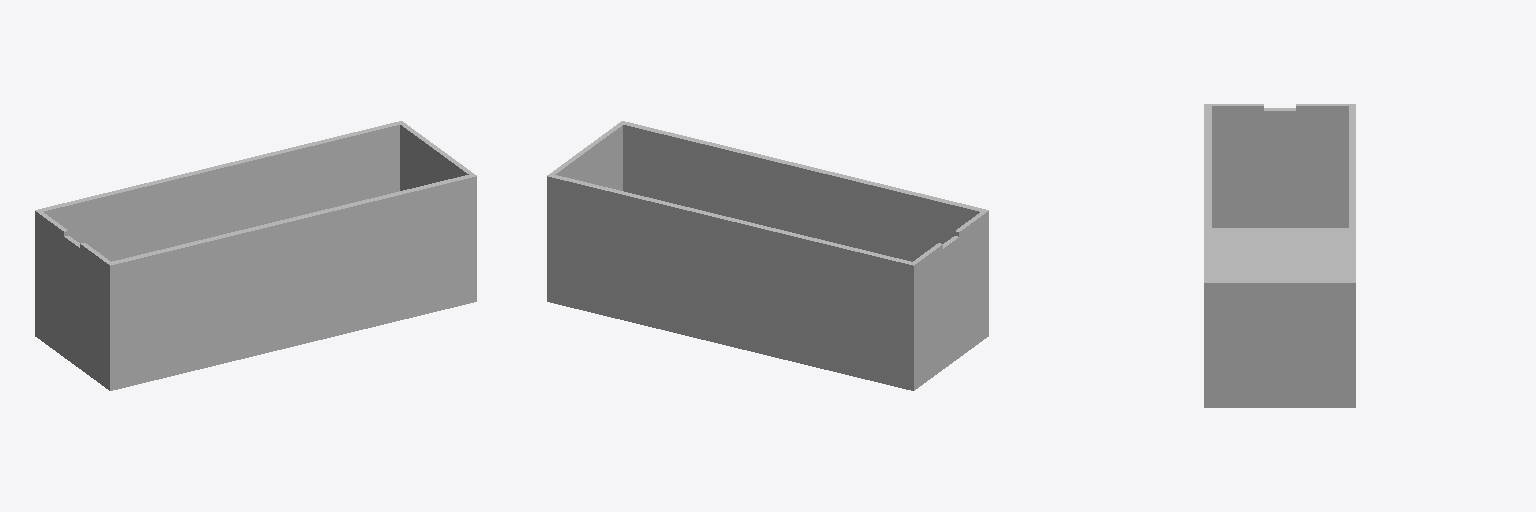
Rendered from Crate_A_Empty.obj.
3 renders of one model, left to right at view 1: azimuth 30°, elevation 25°; view 2: azimuth 150°, elevation 25°; view 3: azimuth 270°, elevation 25°, orthographic.
Visible parts, largest first — view 1: Cargo_2_empty; view 2: Cargo_2_empty; view 3: Cargo_2_empty.
Part boxes in pixels (x1,y1,x2,y2): Cargo_2_empty: (35,121,476,390); Cargo_2_empty: (547,121,988,390); Cargo_2_empty: (1204,104,1355,407).
Bounding box in the file's own units: 4.94 × 1.61 × 1.76.